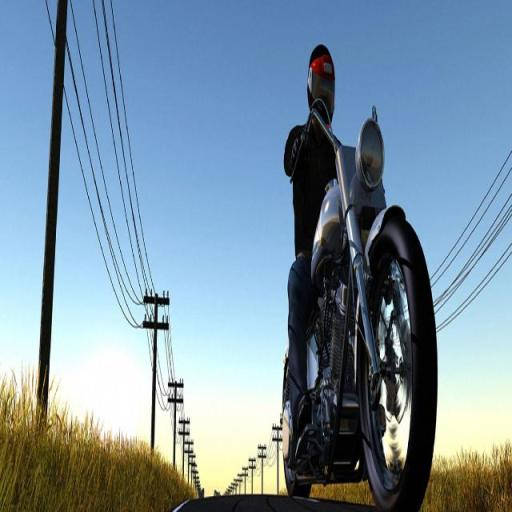Helmet: (308, 44, 335, 117)
Motor: (268, 118, 450, 512)
